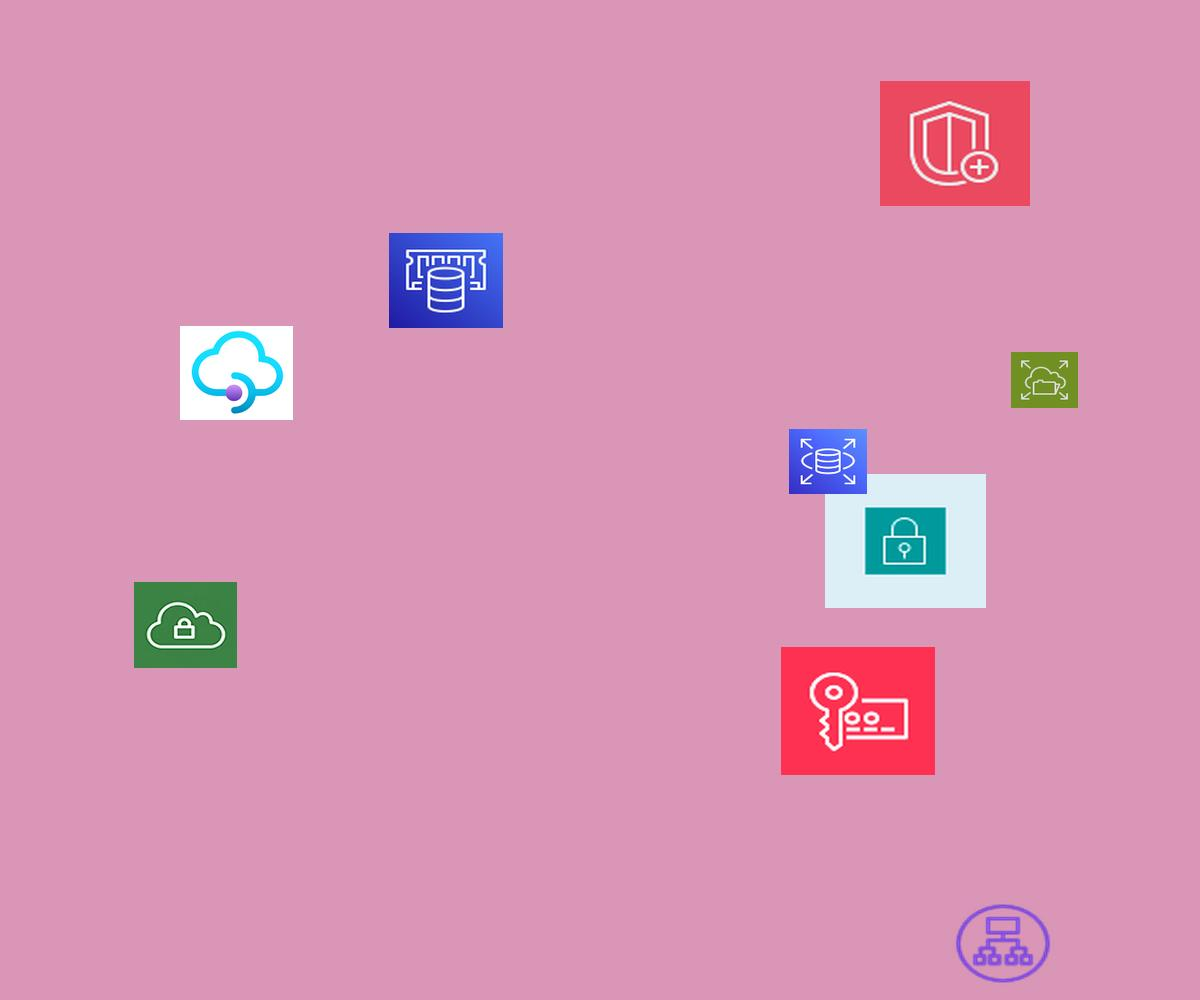AWS-EFS: (1011, 352, 1078, 408)
AWS-ElastiCache: (389, 233, 503, 328)
AWS-Key-Management-Service: (781, 647, 935, 775)
AWS-Private-subnet: (825, 474, 986, 608)
AWS-Private_vpc: (134, 582, 237, 668)
AWS-RDS: (789, 429, 867, 494)
AWS-Res_Elastic-Load-Balancing_Application-Load-Balancer: (952, 901, 1054, 986)
AWS-Shield: (880, 81, 1030, 206)
Azure_api_gateway: (180, 326, 293, 420)
